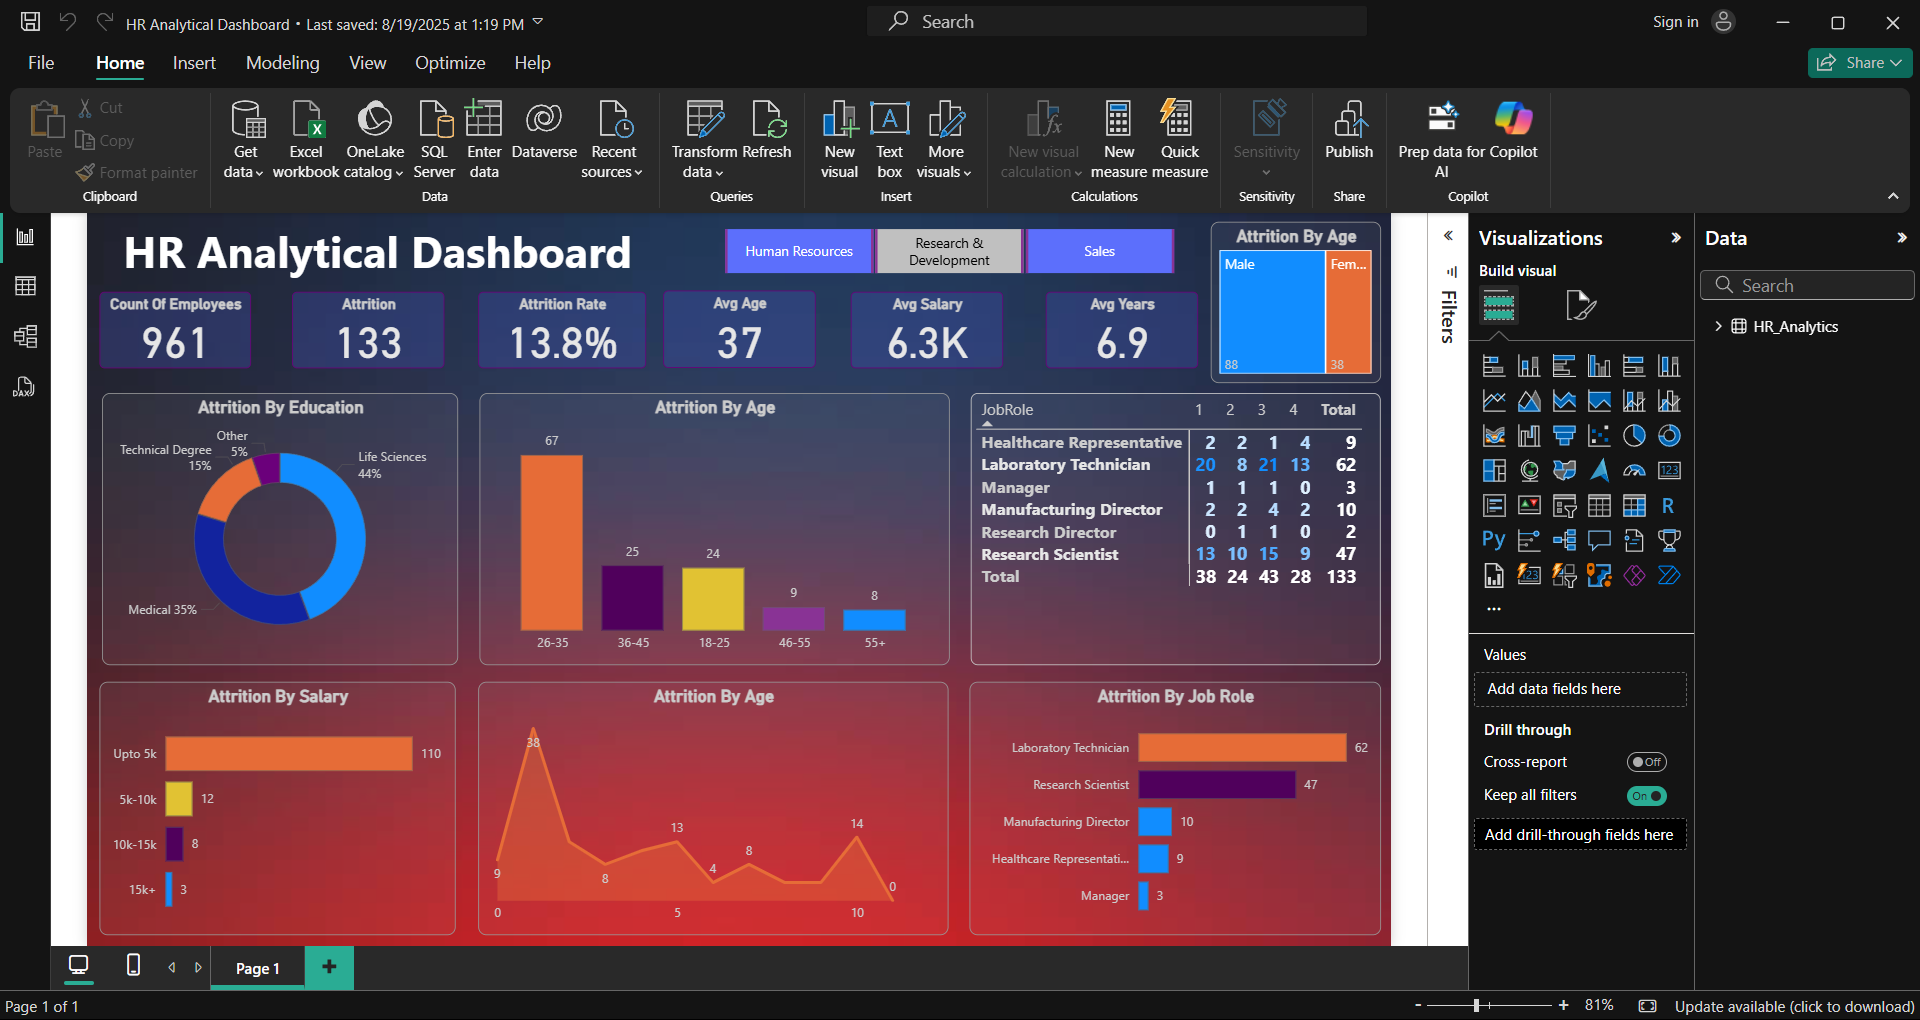

The dashboard page shown, as its layout file describes it:
{"tool":"powerbi","page":{"name":"Page 1","canvas":[1280,720],"ordinal":0},"visuals":[{"type":"card","title":"Count Of Employees","fields":{"Values":["CountNonNull(HR_Analytics.EmpID)"]},"box":[12.3,77.3,148.5,74.8],"z":0},{"type":"card","title":"Avg Age","fields":{"Values":["Avg(HR_Analytics.Age)"]},"box":[565.6,76.1,149.7,76.1],"z":1000},{"type":"card","title":"Attrition","fields":{"Values":["Sum(HR_Analytics.AttritionCount)"]},"box":[201.2,77.3,149.7,74.8],"z":2000},{"type":"card","title":"Attrition Rate","fields":{"Values":["HR_Analytics.Attrition Rate"]},"box":[384.1,77.3,164.4,74.8],"z":3000},{"type":"card","title":"Avg Salary","fields":{"Values":["Avg(HR_Analytics.MonthlyIncome)"]},"box":[749.7,77.3,149.7,74.8],"z":4000},{"type":"card","title":"Avg Years ","fields":{"Values":["Avg(HR_Analytics.YearsAtCompany)"]},"box":[941.1,77.3,149.7,74.8],"z":5000},{"type":"donutChart","title":"Attrition  By Education","fields":{"Y":["Sum(HR_Analytics.AttritionCount)"],"Category":["HR_Analytics.EducationField"]},"box":[14.5,177.2,349.7,267.5],"z":6000},{"type":"columnChart","title":"Attrition  By Age","fields":{"Category":["HR_Analytics.AgeGroup"],"Y":["Sum(HR_Analytics.AttritionCount)"]},"box":[385,177.2,461.4,267.5],"z":7000},{"type":"pivotTable","fields":{"Rows":["HR_Analytics.JobRole"],"Values":["Sum(HR_Analytics.AttritionCount)"],"Columns":["HR_Analytics.JobSatisfaction"]},"box":[867.2,177.2,402.5,267.5],"z":8000},{"type":"barChart","title":"Attrition  By Salary","fields":{"Category":["HR_Analytics.SalarySlab"],"Y":["Sum(HR_Analytics.AttritionCount)"]},"box":[12.3,460.1,349.7,249.1],"z":9000},{"type":"barChart","title":"Attrition  By Job Role","fields":{"Category":["HR_Analytics.JobRole"],"Y":["Sum(HR_Analytics.AttritionCount)"]},"box":[866.3,460.1,403.7,249.1],"z":10000},{"type":"areaChart","title":"Attrition  By Age","fields":{"Category":["HR_Analytics.YearsAtCompany"],"Y":["Sum(HR_Analytics.AttritionCount)"]},"box":[384.1,460.1,461.4,249.1],"z":11000},{"type":"treemap","title":"Attrition  By Age","fields":{"Group":["HR_Analytics.Gender"],"Values":["Sum(HR_Analytics.AttritionCount)"]},"box":[1103.1,8.6,166.9,158.3],"z":12000},{"type":"slicer","fields":{"Values":["HR_Analytics.Department"]},"box":[600,8.6,490.8,57.7],"z":13000},{"type":"textbox","box":[30.7,2.5,569.3,71.2],"z":14000}]}

Visuals, with their boxes on the page's 1280x720 design canvas (x1, y1, x2, y2). These are canvas units, not pixel positions in the 1920x1020 screenshot, which may show the page scaled, cropped or inside an application window:
"Count Of Employees" card: region(12, 77, 161, 152)
"Avg Age" card: region(566, 76, 715, 152)
"Attrition" card: region(201, 77, 351, 152)
"Attrition Rate" card: region(384, 77, 548, 152)
"Avg Salary" card: region(750, 77, 899, 152)
"Avg Years " card: region(941, 77, 1091, 152)
"Attrition  By Education" donutChart: region(14, 177, 364, 445)
"Attrition  By Age" columnChart: region(385, 177, 846, 445)
pivotTable - HR_Analytics.JobRole x Sum(HR_Analytics.AttritionCount): region(867, 177, 1270, 445)
"Attrition  By Salary" barChart: region(12, 460, 362, 709)
"Attrition  By Job Role" barChart: region(866, 460, 1270, 709)
"Attrition  By Age" areaChart: region(384, 460, 846, 709)
"Attrition  By Age" treemap: region(1103, 9, 1270, 167)
slicer - HR_Analytics.Department: region(600, 9, 1091, 66)
textbox: region(31, 2, 600, 74)
